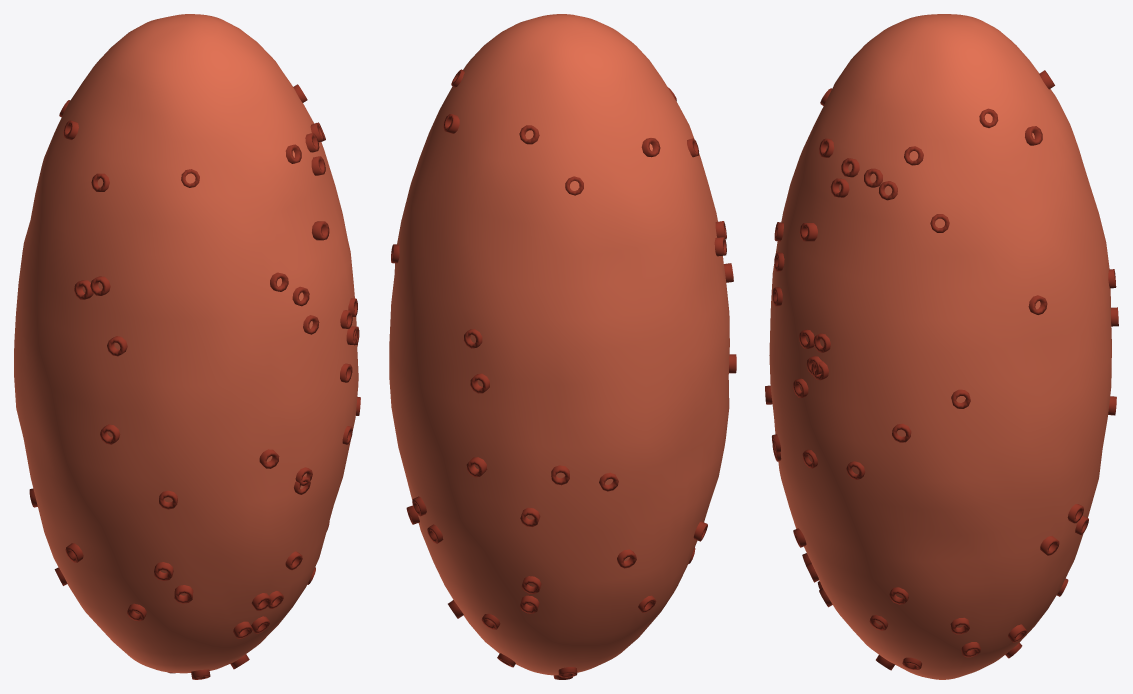
Rendered from celula-lupa_mitocondria.glb.
3 views of the same model, side by side, from view 1: azimuth 30°, elevation 25°; view 2: azimuth 150°, elevation 25°; view 3: azimuth 270°, elevation 25° (orthographic).
Parts seen in each view (by area): view 1: membrana_externa, porina; view 2: membrana_externa, porina; view 3: membrana_externa, porina.
Boxes of the visible parts, x1,y1,x2,y2 form: membrana_externa: [14, 14, 358, 673]; porina: [29, 84, 360, 679]; membrana_externa: [389, 14, 729, 675]; porina: [391, 69, 736, 679]; membrana_externa: [769, 14, 1111, 679]; porina: [765, 70, 1118, 670].
Bounding box in the file's own units: 2.54 × 5.24 × 2.57.
